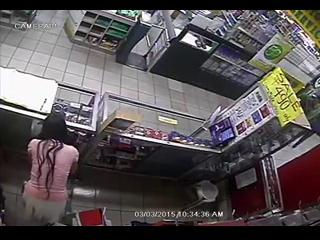Normal: (21, 113, 80, 225)
